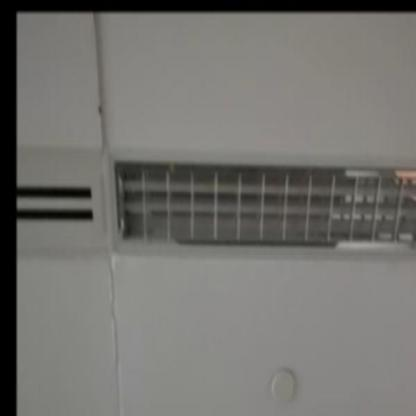light_off: (108, 129, 416, 283)
